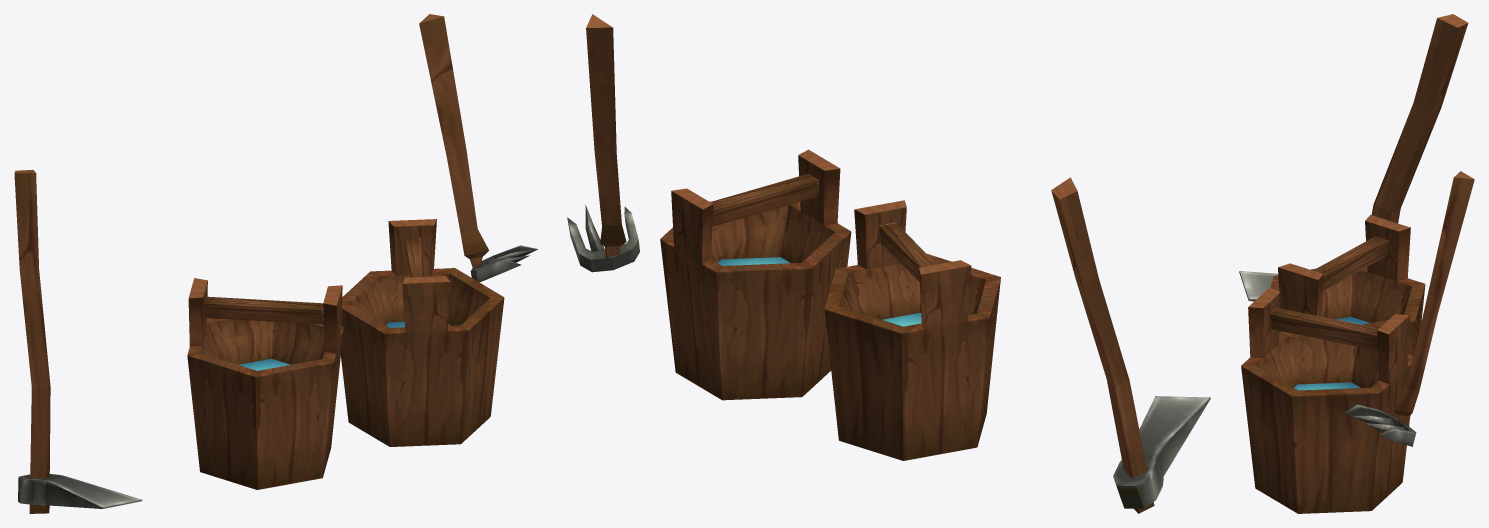
Rendered from cunlou_xiaowujian09.FBX.
3 renders of one model, left to right at view 1: azimuth 30°, elevation 25°; view 2: azimuth 150°, elevation 25°; view 3: azimuth 270°, elevation 25°, orthographic. The views are drawn at different scales.
Visible parts, largest first — view 1: cunlou_xiaowujian09; view 2: cunlou_xiaowujian09; view 3: cunlou_xiaowujian09.
Part boxes in pixels (left/top/right/bottom): cunlou_xiaowujian09: left=14, top=14, right=537, bottom=513; cunlou_xiaowujian09: left=567, top=14, right=1210, bottom=513; cunlou_xiaowujian09: left=1239, top=14, right=1474, bottom=513.
Bounding box in the file's own units: 171 × 113 × 64.83.
